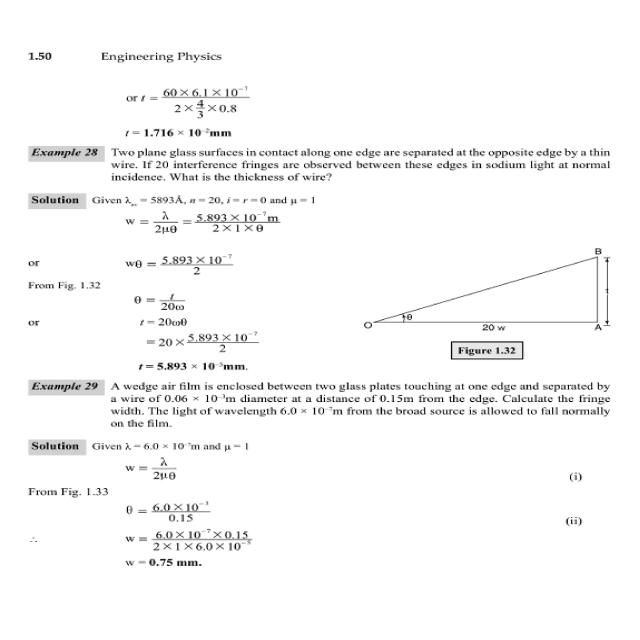diagram: (311, 216, 640, 379)
